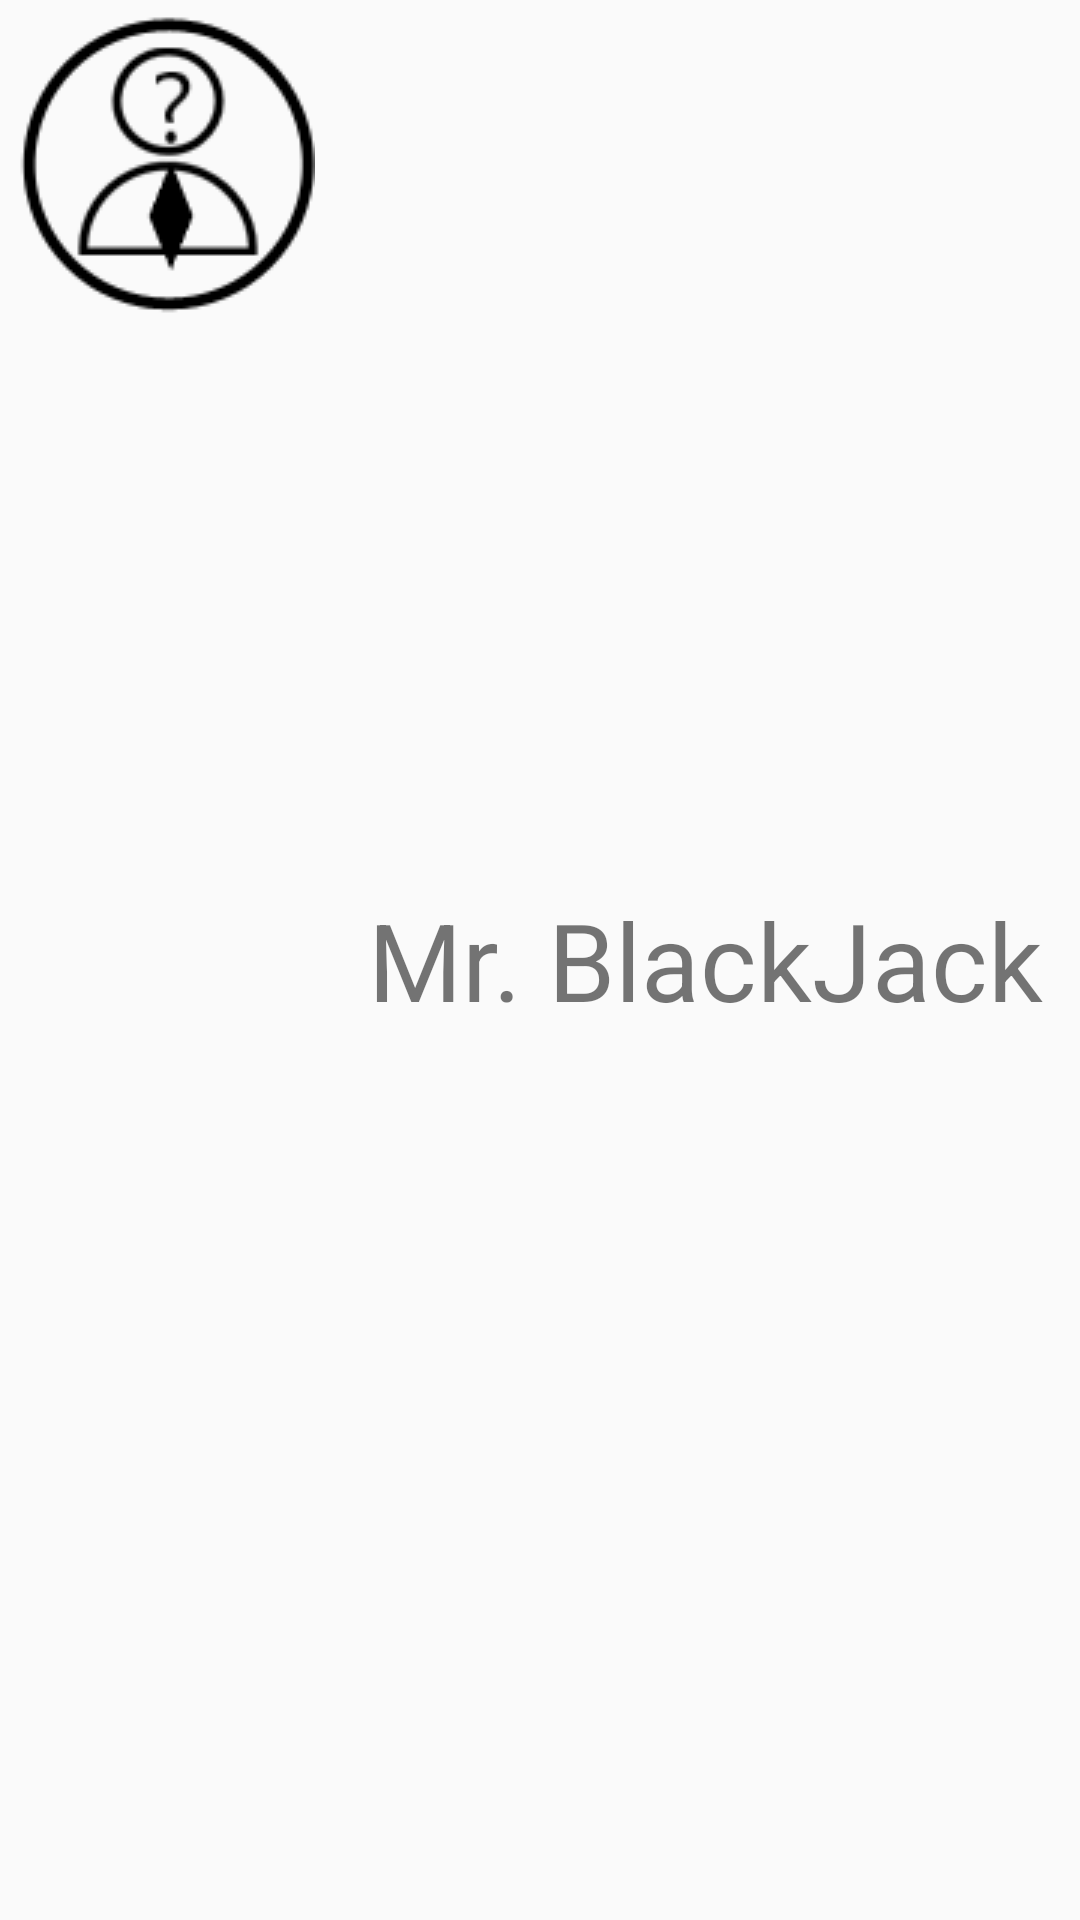

Icon bounding boxes for this 1080px x 1920px phone screenshot, format rect(x1, y1, x2, y2):
staff: rect(21, 17, 315, 312)
